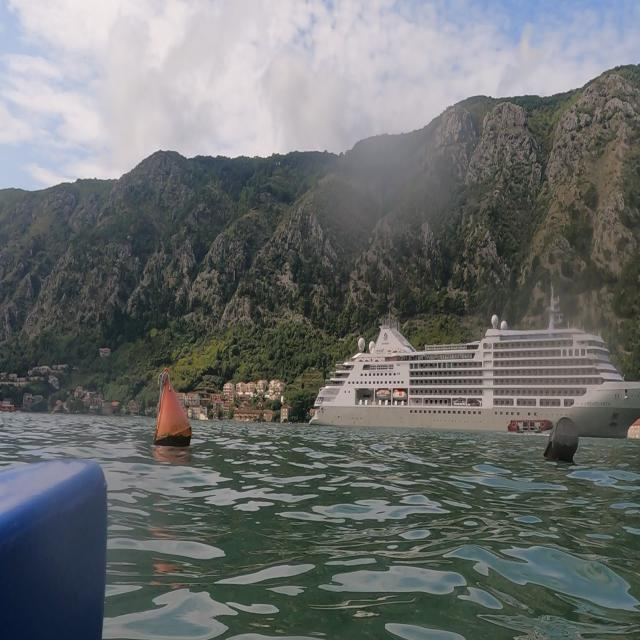boat: (304, 309, 640, 462), (152, 364, 194, 450)
buoy: (539, 414, 585, 476)
